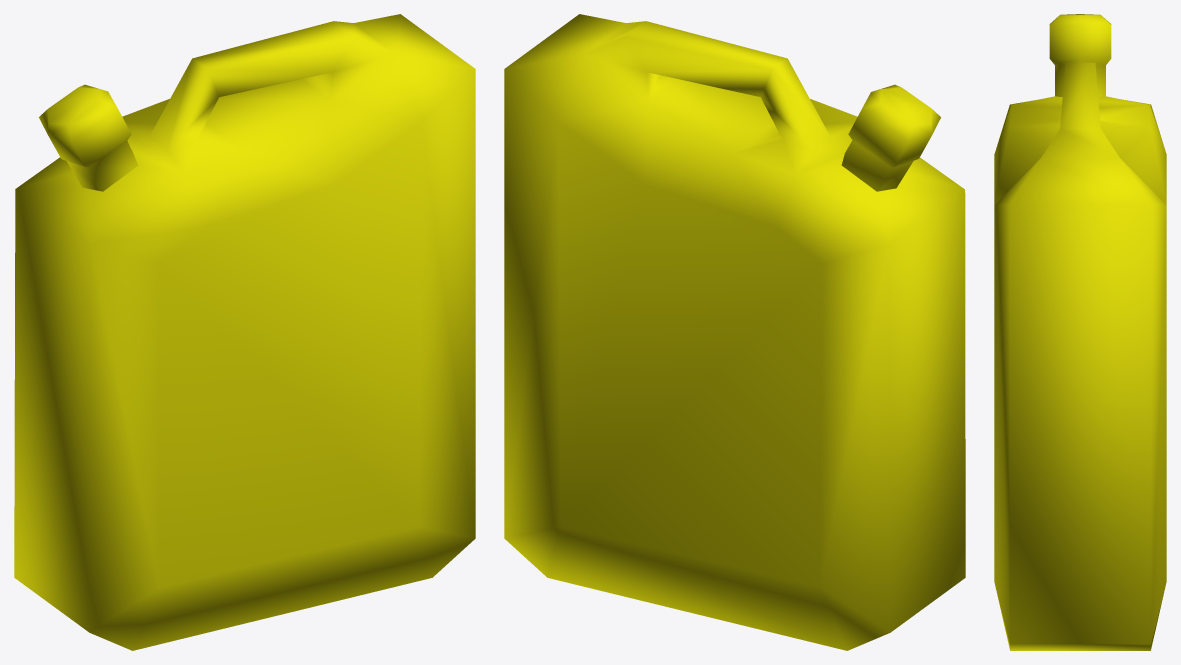
Rendered from canister.glb.
3 views of the same model, side by side, from view 1: azimuth 30°, elevation 25°; view 2: azimuth 150°, elevation 25°; view 3: azimuth 270°, elevation 25° (orthographic). The views are drawn at different scales.
Parts seen in each view (by area): view 1: canister; view 2: canister; view 3: canister.
Part boxes in pixels (<box>): canister: <box>14,14,475,650</box>; canister: <box>504,14,965,650</box>; canister: <box>994,14,1166,650</box>.
Size of the model in its own units: 3.62 by 4.73 by 1.48.
